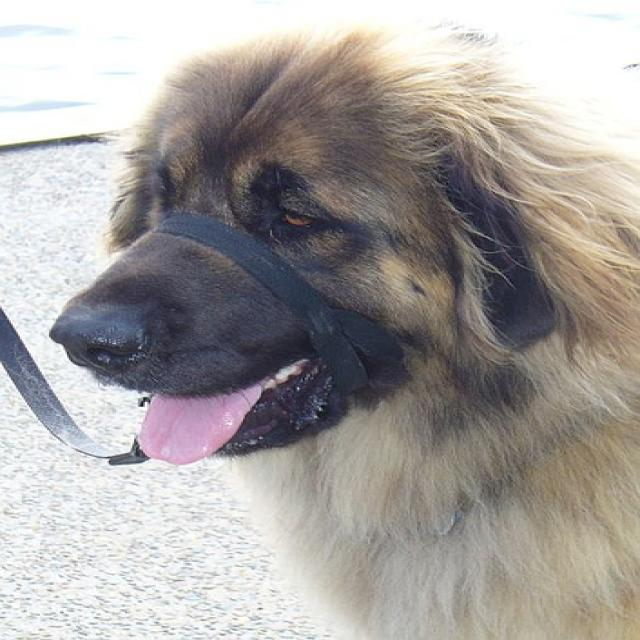dog-leonberger: (40, 20, 636, 637)
